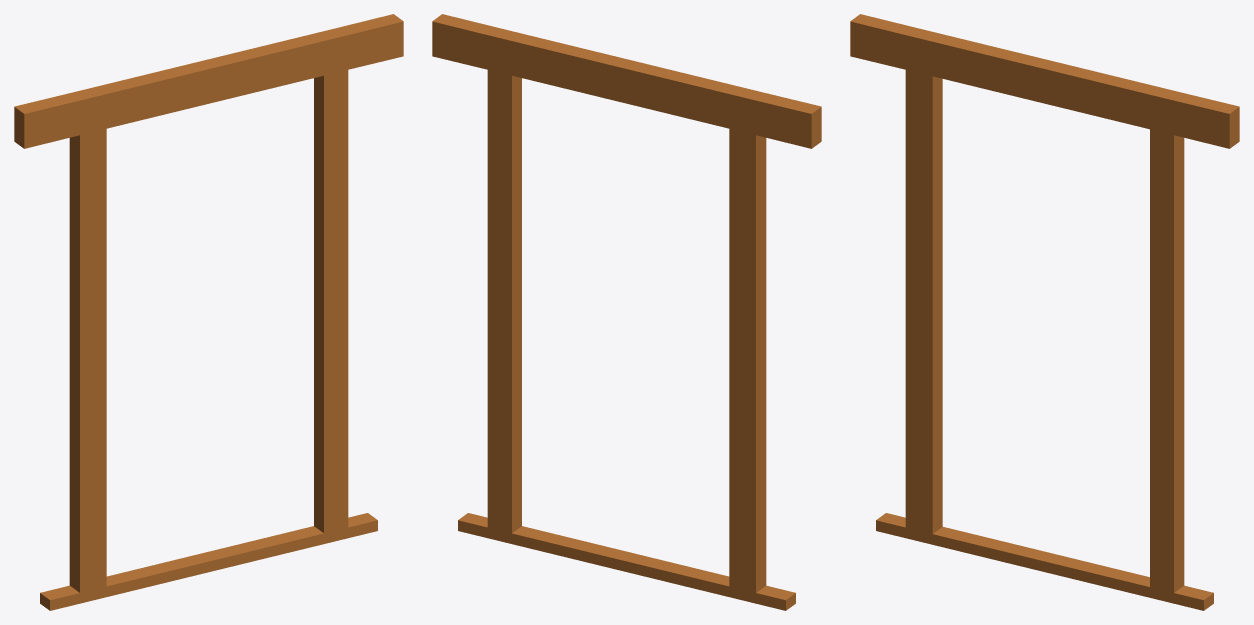
Rendered from guillotindeff.fbx.
3 views of the same model, side by side, from view 1: azimuth 30°, elevation 25°; view 2: azimuth 150°, elevation 25°; view 3: azimuth 330°, elevation 25° (orthographic).
Parts seen in each view (by area): view 1: pCube22; view 2: pCube22; view 3: pCube22.
Boxes of the visible parts, bbox=[...] form: pCube22: bbox=[14, 14, 403, 610]; pCube22: bbox=[432, 14, 821, 610]; pCube22: bbox=[850, 14, 1239, 610].
Bounding box in the file's own units: 366 × 465 × 16.97.
